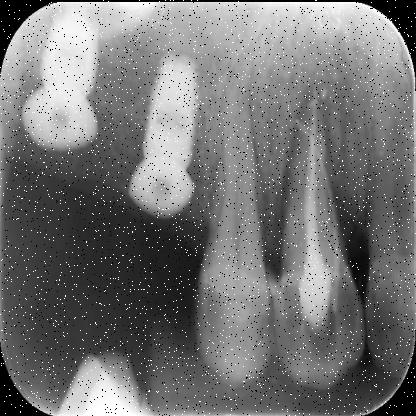Bicon: (135, 48, 208, 158), (38, 7, 104, 85)
